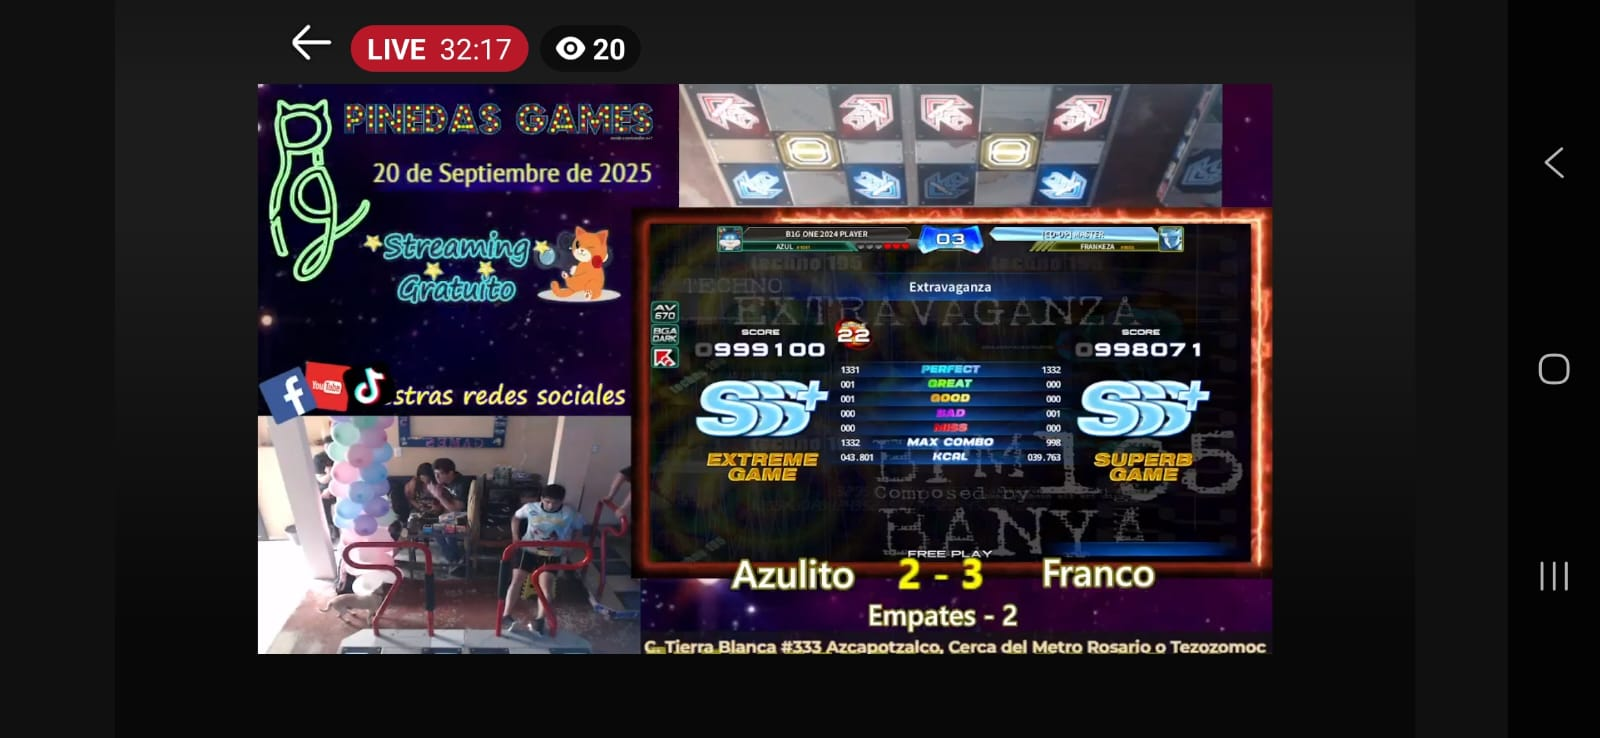difficulty: (829, 310, 887, 346)
fullscore: (656, 231, 1028, 550), (323, 132, 621, 457)
rank: (689, 366, 832, 438)
score: (692, 316, 841, 366)
song_name: (826, 268, 1102, 303)
